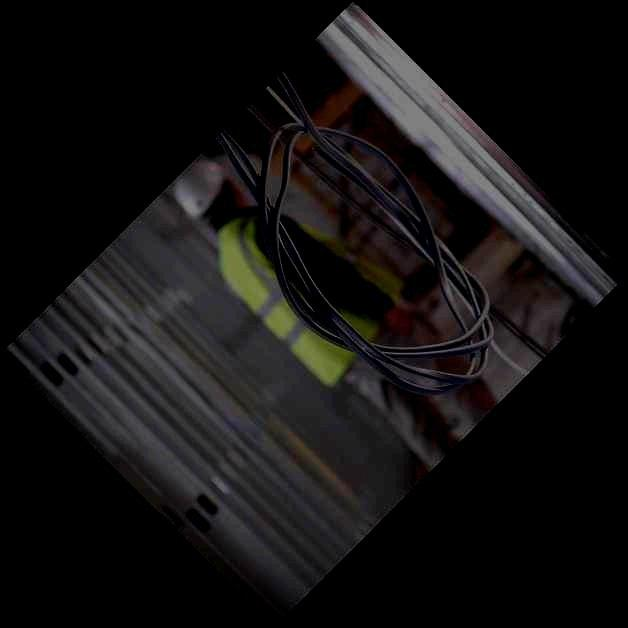helmet: (171, 159, 249, 220)
